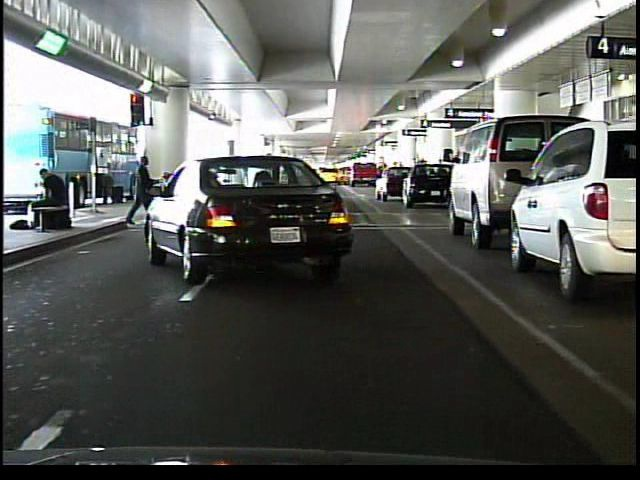person: (32, 164, 70, 237), (128, 150, 156, 231)
